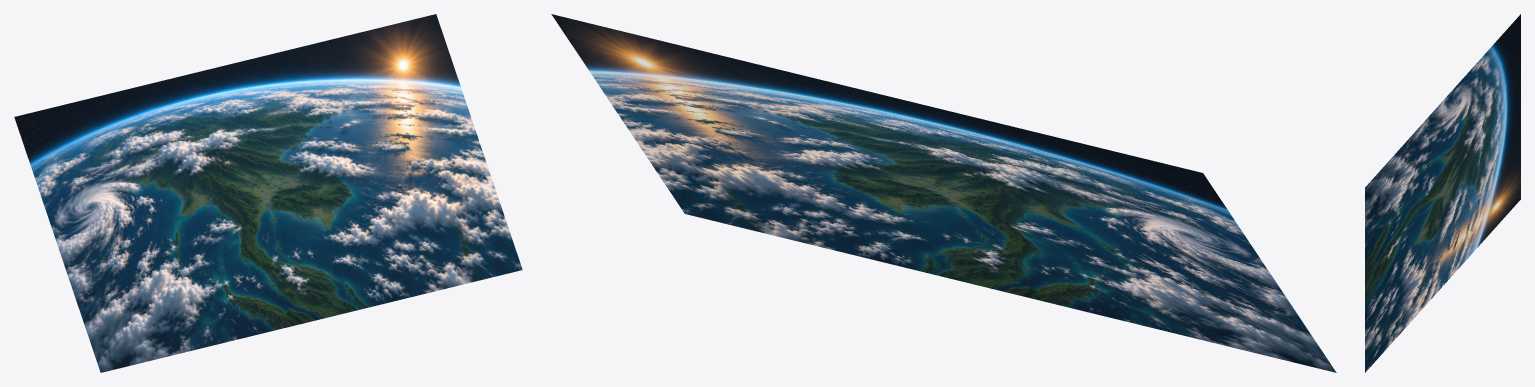
The model's file is orbit.glb.
3 views of the same model, side by side, from view 1: azimuth 30°, elevation 25°; view 2: azimuth 150°, elevation 25°; view 3: azimuth 270°, elevation 25° (orthographic). The views are drawn at different scales.
Visible parts, largest first — view 1: Matte orbit distant backdrop; view 2: Matte orbit distant backdrop; view 3: Matte orbit distant backdrop.
Part boxes in pixels (x1,y1,x2,y2): Matte orbit distant backdrop: (14,14,522,372); Matte orbit distant backdrop: (551,14,1336,372); Matte orbit distant backdrop: (1365,14,1520,372).
Size of the model in its own units: 252 by 110 by 89.45.
Materials: 1 (1 with a texture image).
